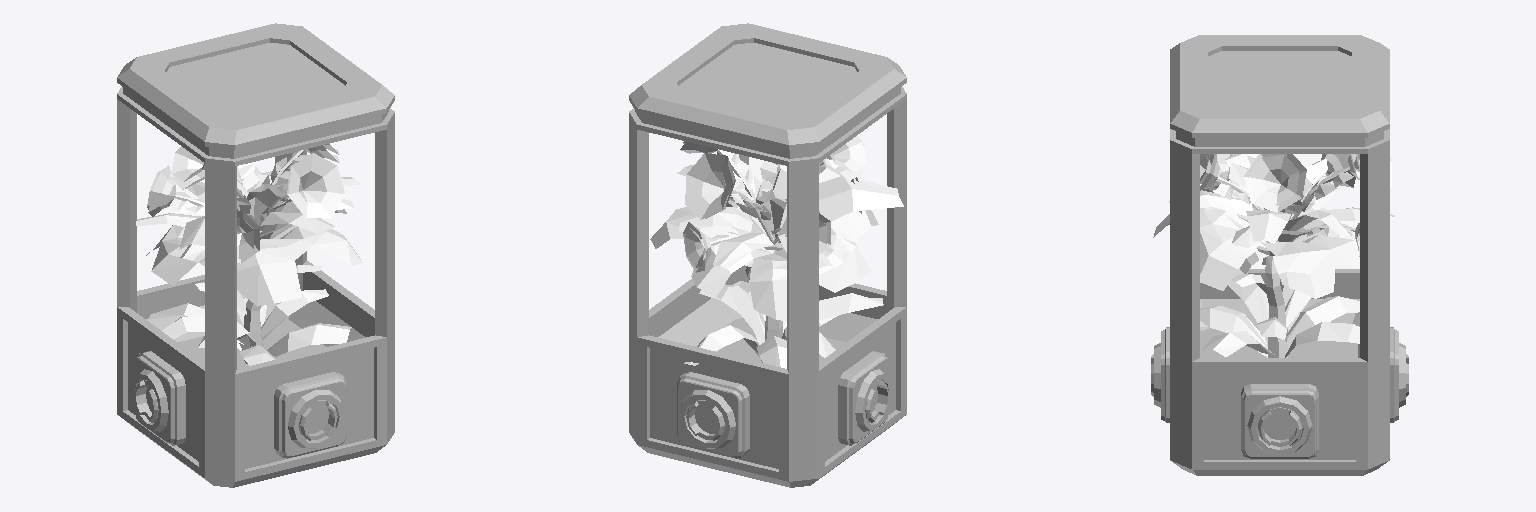
File: fant_pigmentflower_grower_2.obj
The picture shows the model from 3 angles: view 1: azimuth 30°, elevation 25°; view 2: azimuth 150°, elevation 25°; view 3: azimuth 270°, elevation 25°; orthographic projection.
Parts seen in each view (by area): view 1: fant_pigmentflower_grower_2_Cube; view 2: fant_pigmentflower_grower_2_Cube; view 3: fant_pigmentflower_grower_2_Cube.
Boxes of the visible parts, x1=… form: fant_pigmentflower_grower_2_Cube: x1=117, y1=23, x2=394, y2=487; fant_pigmentflower_grower_2_Cube: x1=629, y1=23, x2=906, y2=487; fant_pigmentflower_grower_2_Cube: x1=1151, y1=35, x2=1408, y2=475.
Size of the model in its own units: 5.87 by 9 by 5.87.